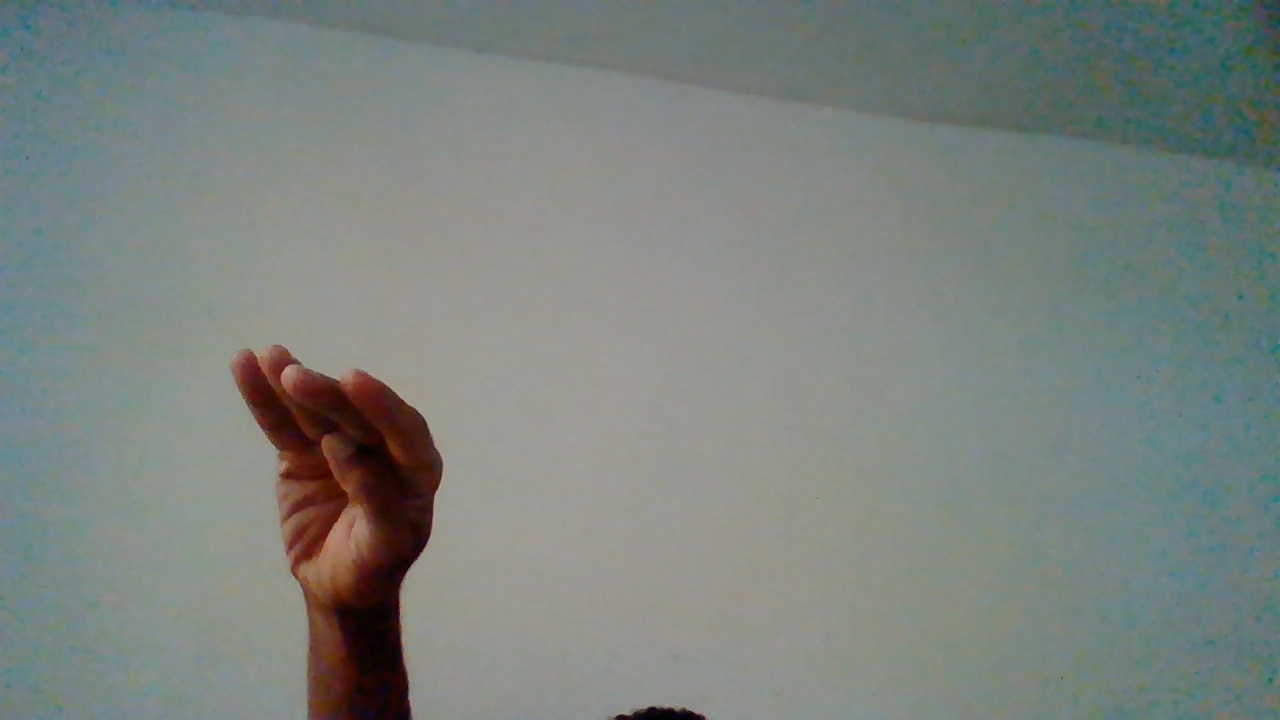me: (227, 338, 440, 720)
